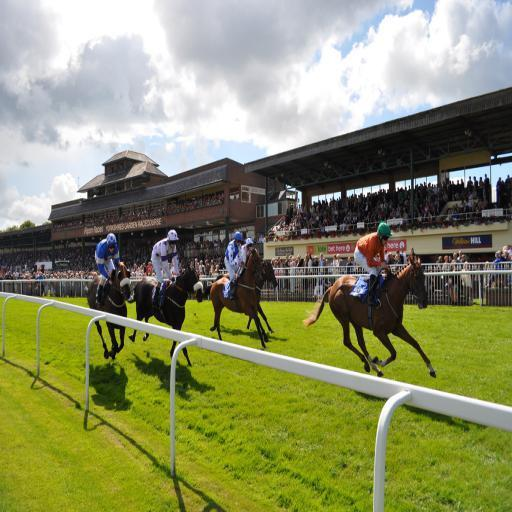horse: (303, 256, 436, 378), (128, 260, 202, 368), (202, 246, 267, 348), (214, 260, 278, 334), (86, 260, 132, 359)
